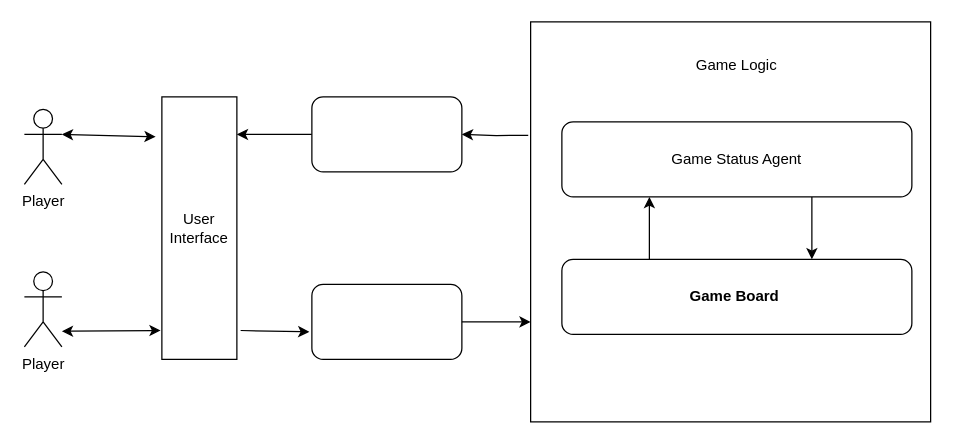
Some shapes in this 953 by 444 pixel diagram are drawn without their labels. Here are the shapes that lost their labels. From the top down, the centre of each, then its label:
At (386,134): "Game Renderer".
At (386,321): "Action handler".
